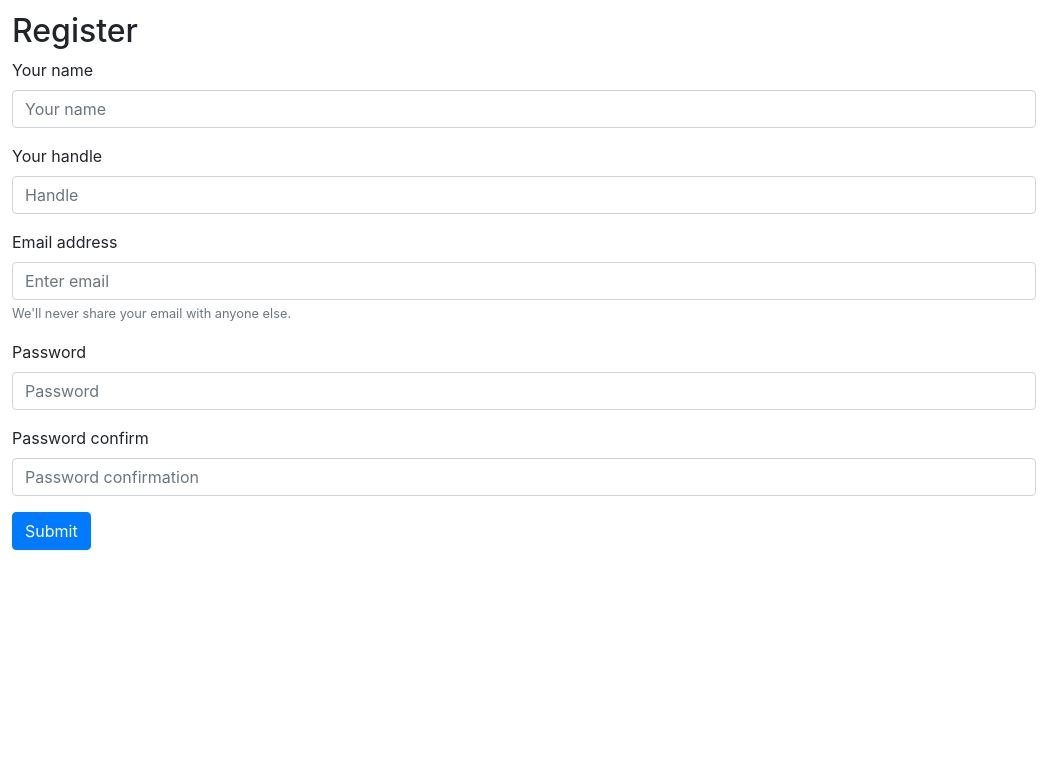
Test case: Register component › should display error of › should display password mismatch error
Type "tester" into the field with placeholder "Your name" at (524, 109), box [12,90,1036,128]
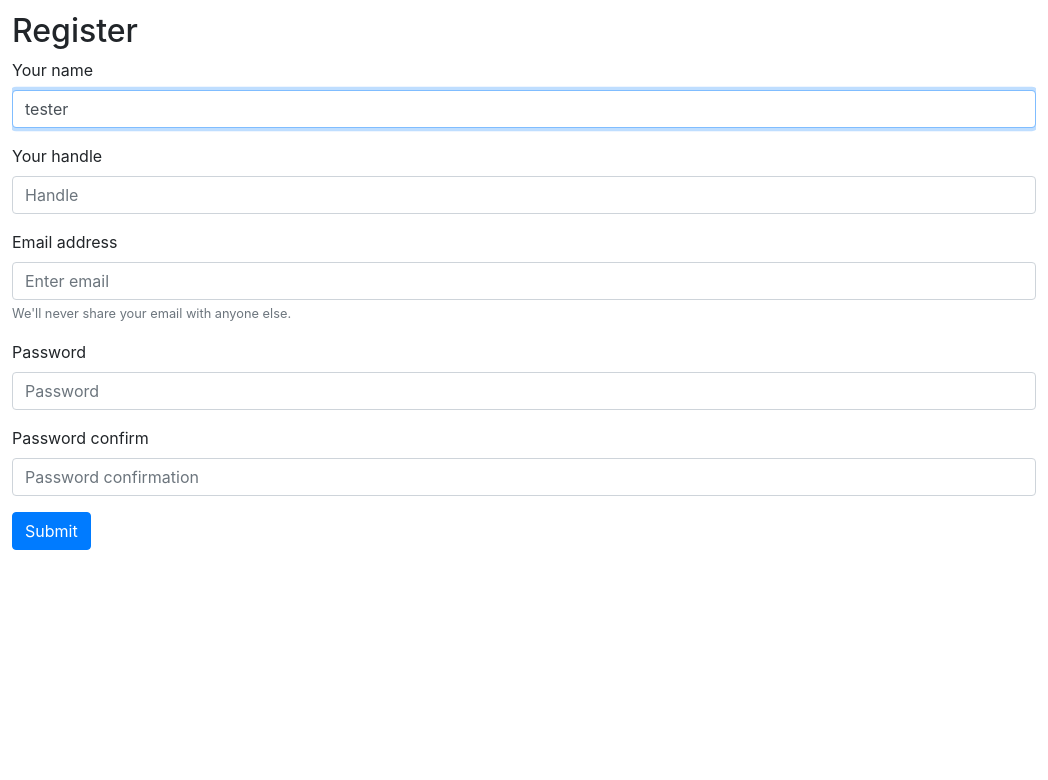
Type "takenHandle" into the field with placeholder "handle" at (524, 195), box [12,176,1036,214]
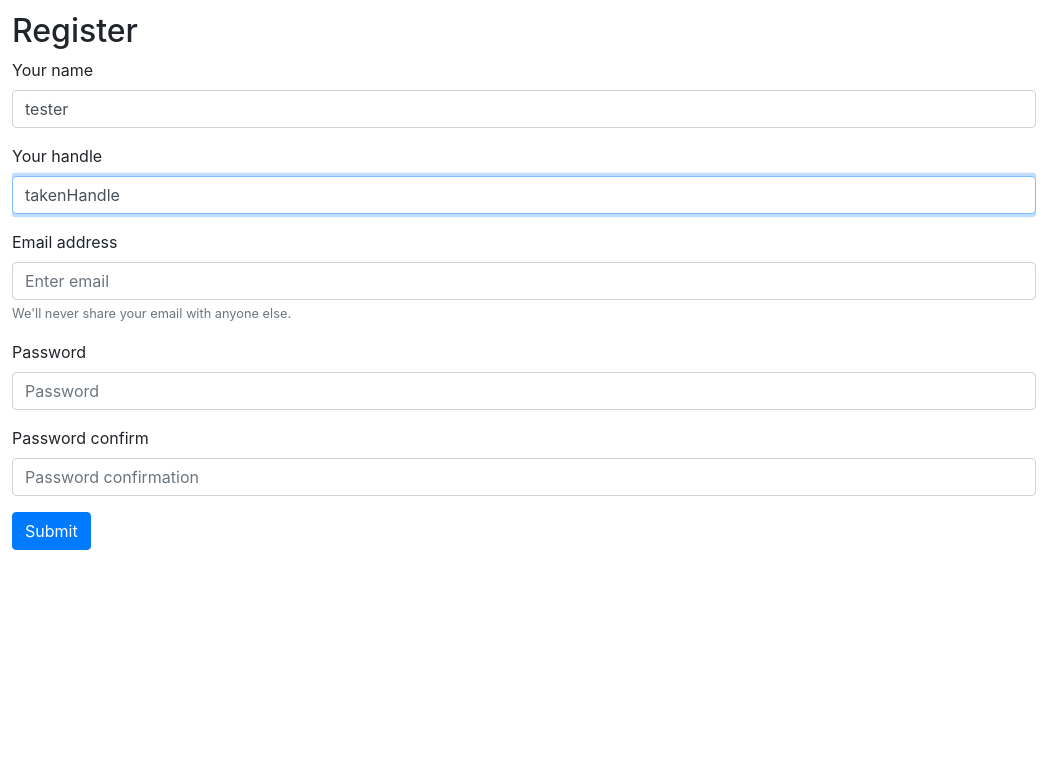
Type "email@example.com" into the field with placeholder "Enter email" at (524, 281), box [12,262,1036,300]
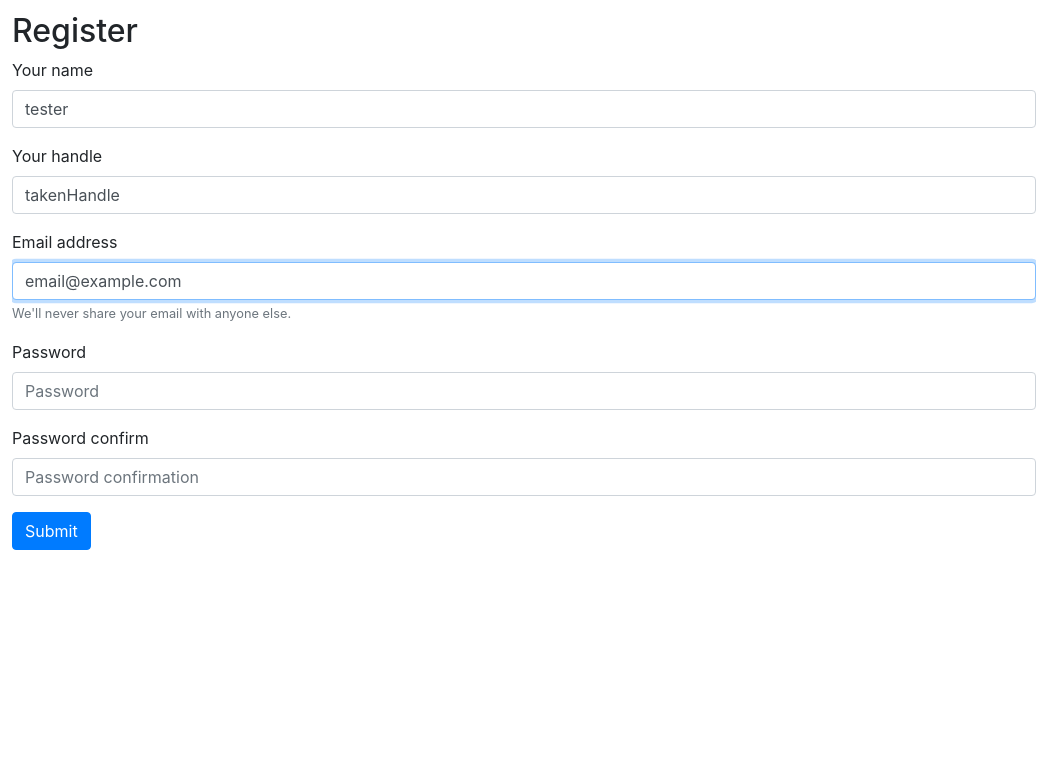
Type "testPassword" into the password field with placeholder "Password" at (524, 391), box [12,372,1036,410]
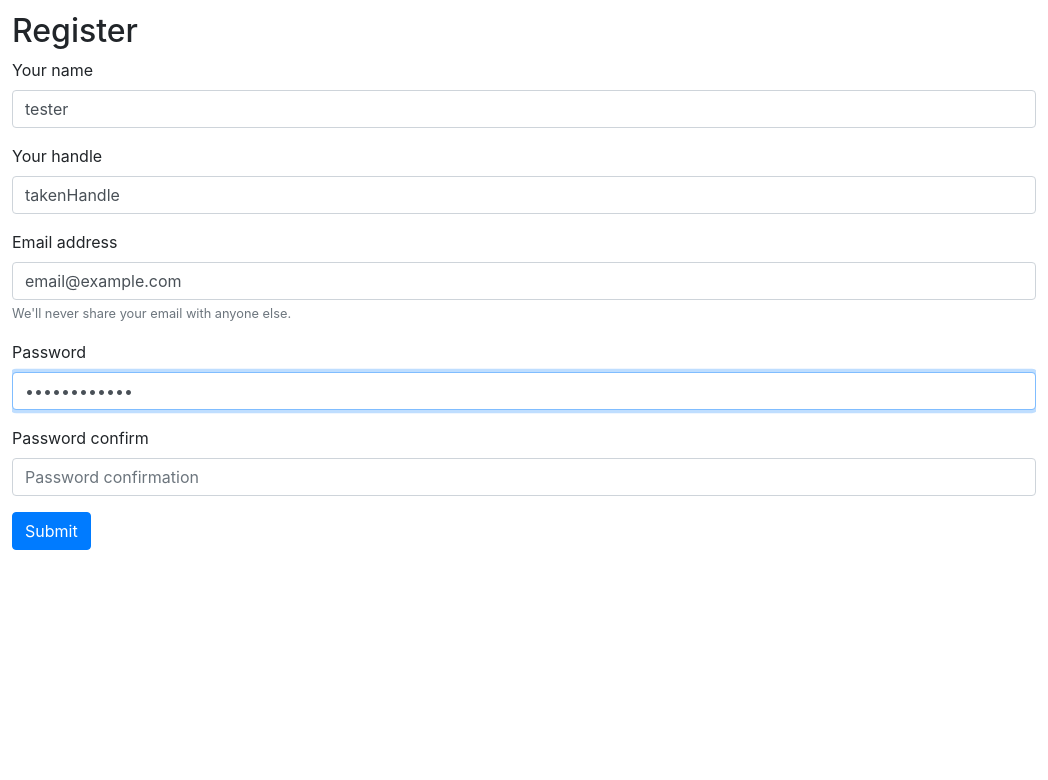
Type "notMatching" into the password field with placeholder "Password confirmation" at (524, 477), box [12,458,1036,496]
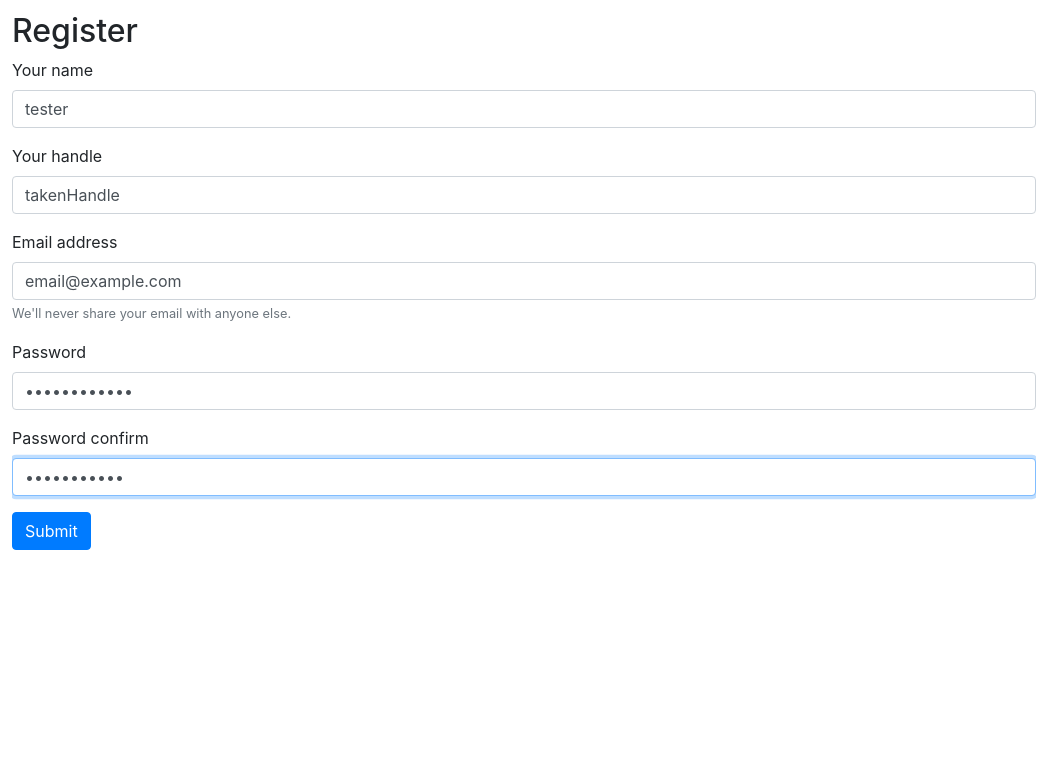
Click the button "Submit" at (51, 531), box [12,512,91,550]
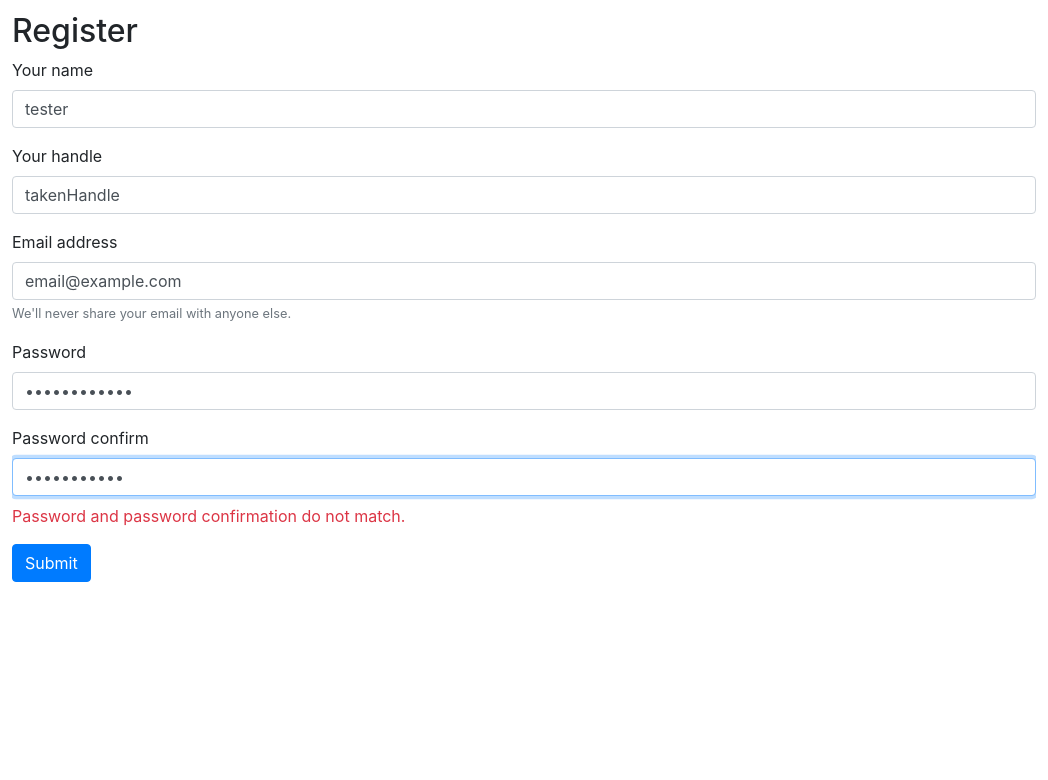
Now the text "Password and password confirmation do not match." is shown, box [12,506,405,526]
